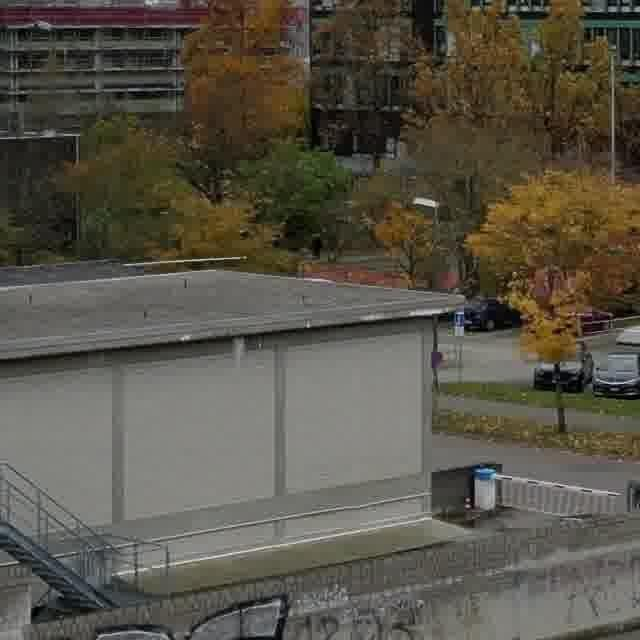Drohne: (34, 21, 52, 29)
